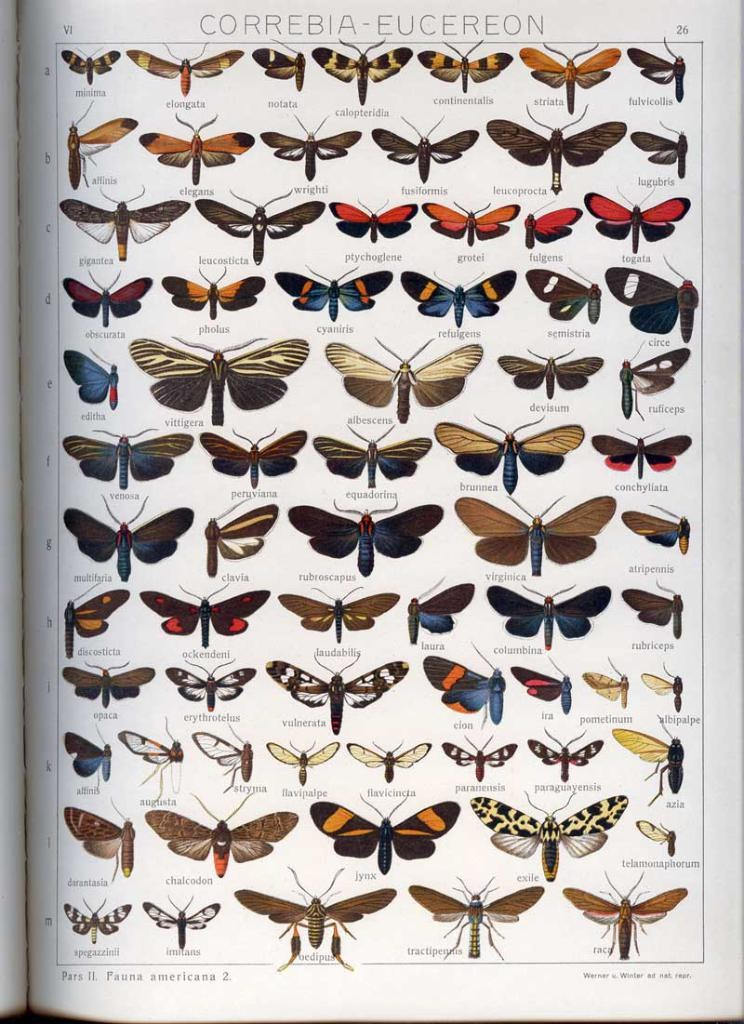insect: (232, 868, 400, 970), (127, 333, 308, 425), (469, 791, 626, 885), (322, 339, 485, 423), (453, 495, 616, 577), (145, 795, 295, 880), (485, 104, 626, 194), (312, 791, 459, 874), (290, 499, 445, 577), (63, 491, 193, 581), (408, 875, 543, 960), (563, 871, 688, 962), (439, 416, 583, 493), (267, 657, 408, 732), (196, 189, 326, 265), (59, 187, 189, 261), (138, 581, 269, 647), (136, 113, 253, 185), (606, 253, 700, 342), (486, 587, 614, 651), (63, 428, 193, 491), (583, 181, 691, 252), (518, 42, 622, 114), (369, 114, 477, 183), (276, 585, 400, 644), (314, 426, 432, 488), (422, 645, 504, 731), (276, 262, 392, 321), (400, 268, 518, 326), (200, 428, 308, 490), (261, 113, 359, 180), (63, 795, 136, 884), (616, 714, 686, 806), (127, 42, 244, 97), (312, 42, 414, 105), (71, 97, 140, 189), (204, 493, 276, 578), (495, 345, 604, 398), (118, 716, 180, 805), (163, 266, 265, 319), (61, 270, 155, 326), (418, 36, 511, 91), (622, 342, 691, 416), (161, 659, 259, 711), (61, 583, 127, 659), (591, 428, 691, 477), (403, 575, 474, 644), (61, 659, 153, 710), (193, 720, 255, 794), (525, 266, 603, 323), (422, 199, 516, 246), (524, 727, 604, 782), (143, 895, 221, 950), (329, 195, 418, 242), (630, 33, 688, 101), (63, 340, 116, 411), (265, 739, 343, 787), (512, 653, 573, 714), (622, 579, 683, 640), (630, 118, 690, 180), (620, 504, 691, 555), (440, 736, 518, 782), (61, 898, 134, 944), (347, 745, 430, 784), (249, 38, 306, 91), (65, 720, 112, 780), (525, 199, 580, 249), (585, 653, 630, 710), (642, 663, 686, 714), (64, 46, 123, 83), (633, 819, 679, 858)
